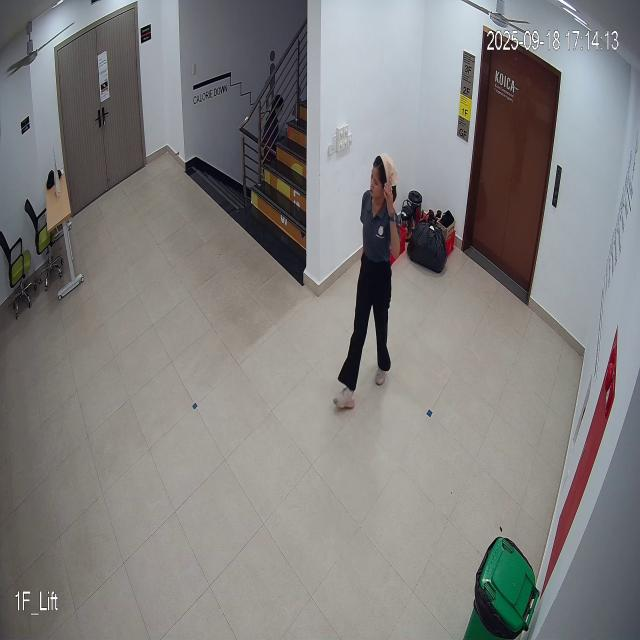face: (367, 149, 397, 209)
